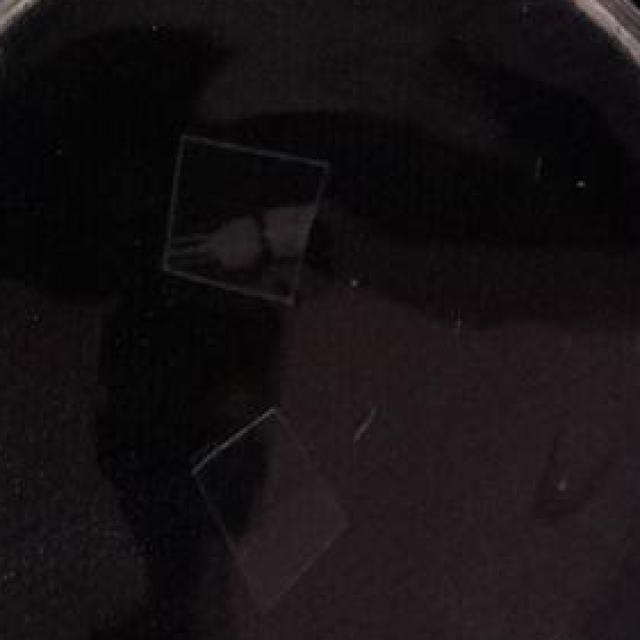Microplastic: (182, 400, 358, 609), (157, 112, 335, 307)
